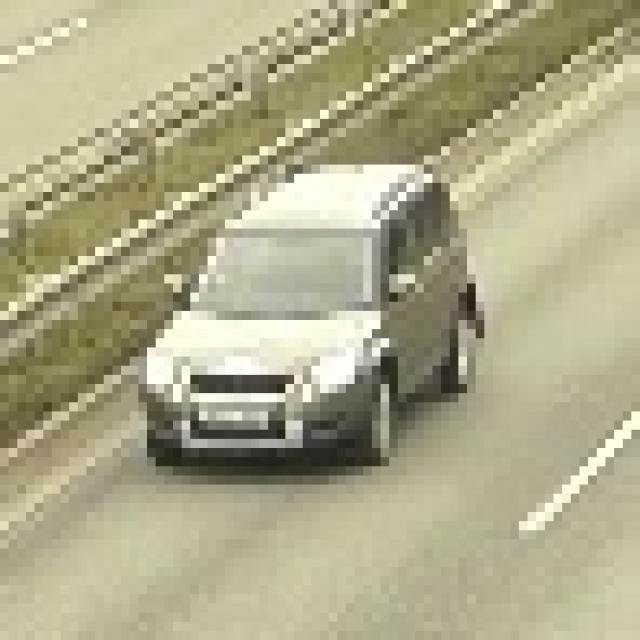SUV: (148, 161, 457, 469)
